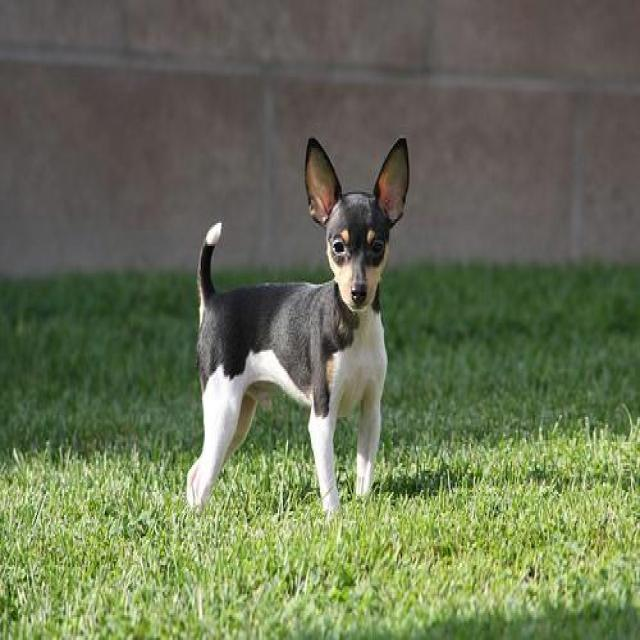toy_terrier: (186, 134, 408, 518)
